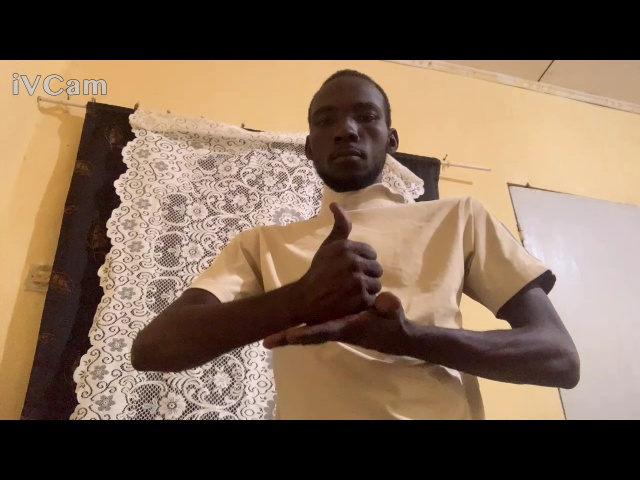aide: (257, 198, 431, 365)
